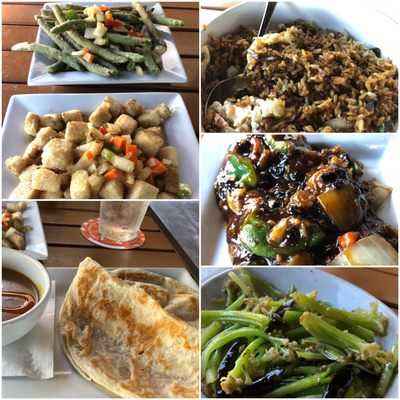pizza: (98, 199, 150, 247)
soup: (58, 257, 199, 396)
sushi: (200, 266, 398, 396), (2, 92, 198, 202), (25, 2, 198, 89), (2, 248, 52, 347)
